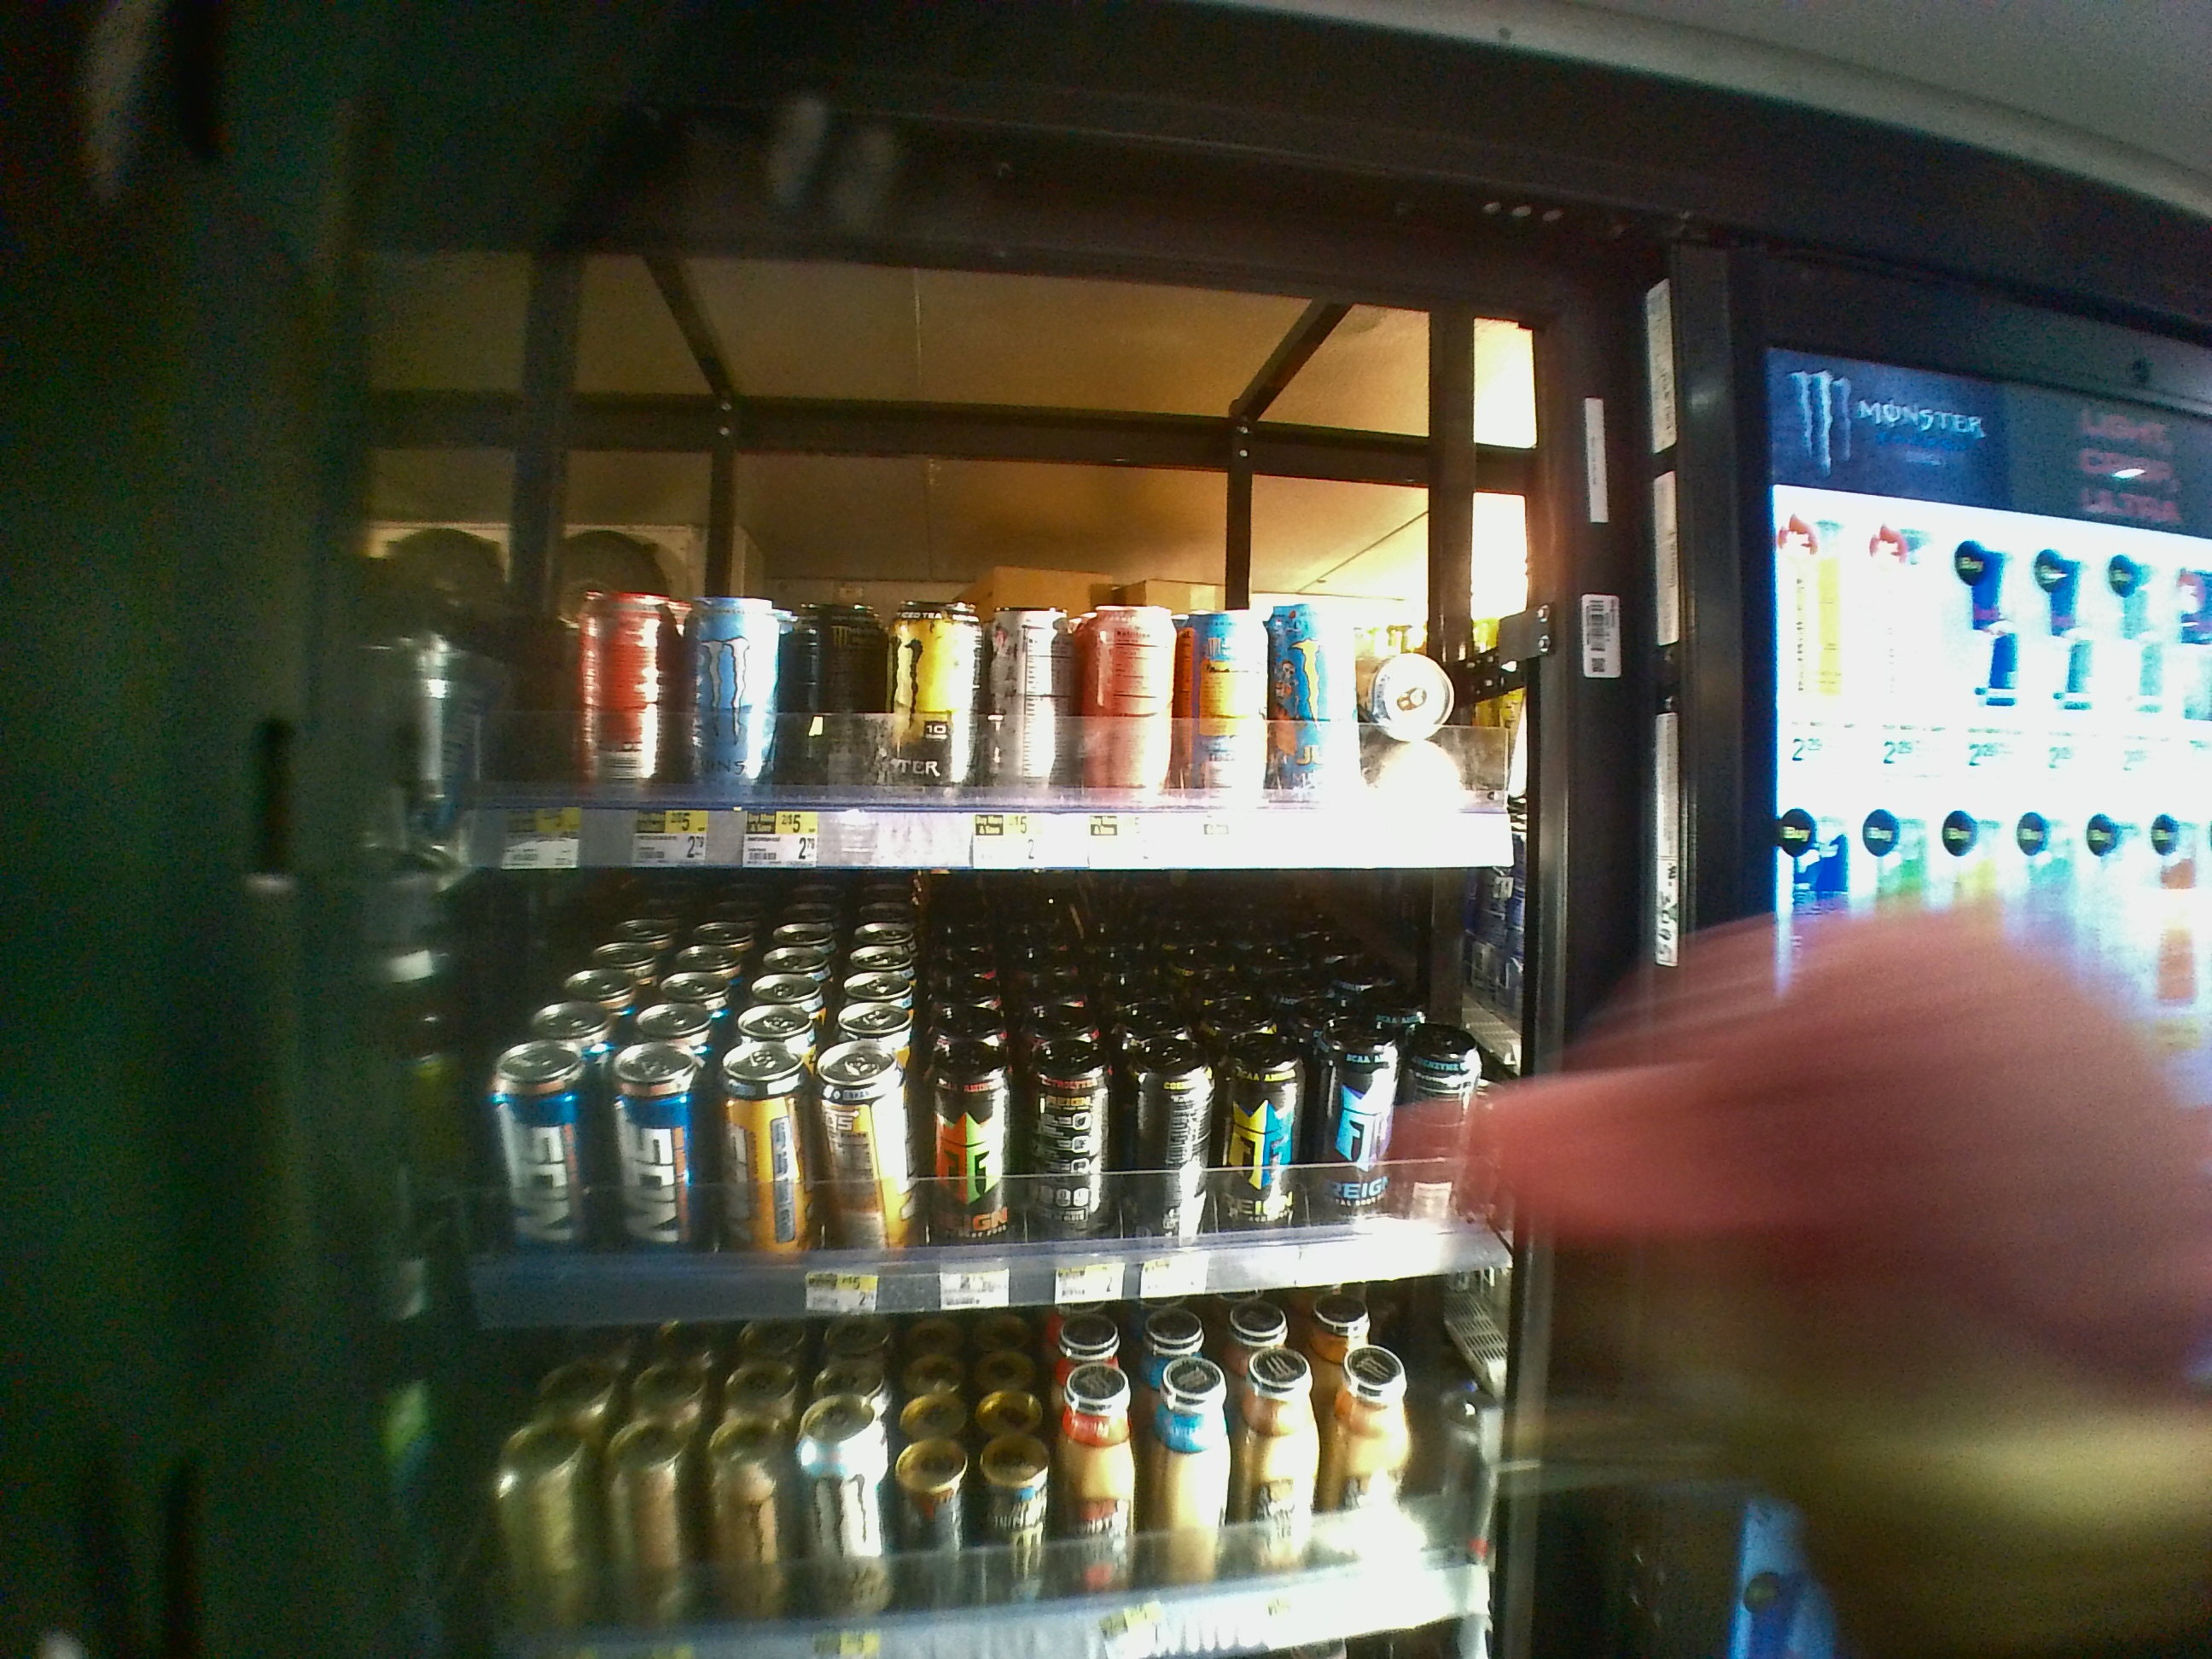shelf: (378, 256, 1547, 871)
